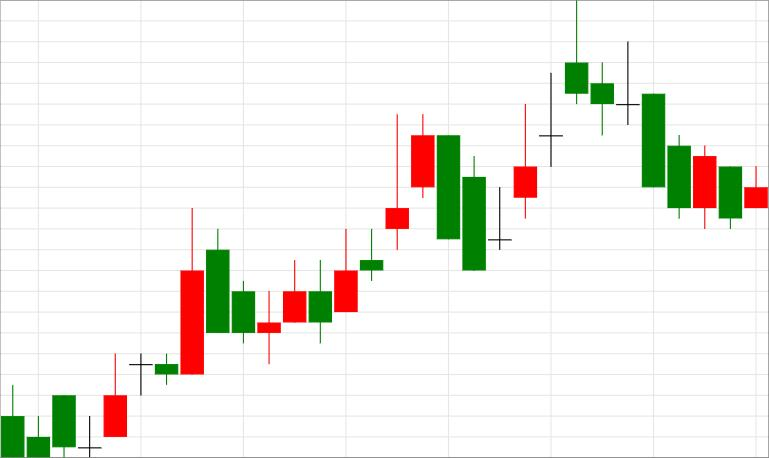shooting_star_fall: (463, 0, 588, 270)
